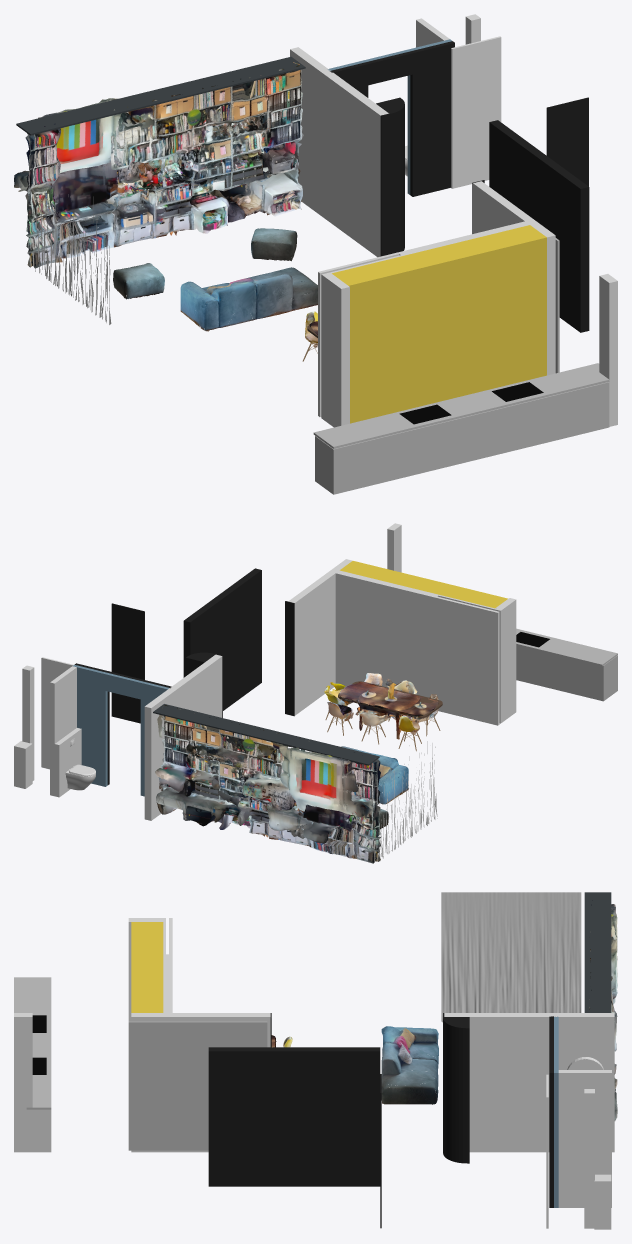
3 views of the same model, one above another, from view 1: azimuth 30°, elevation 25°; view 2: azimuth 150°, elevation 25°; view 3: azimuth 270°, elevation 25° (orthographic). The views are drawn at different scales.
Visible parts, largest first — view 1: Object.007, Curve.071, Curve.066, Curve.068, Curve.065, _Curve.012, _Curve.014, Sofa.001, Arbeitsplatte.004, Curve.072, Curve.067, Curve.069 (+11 smaller); view 2: Object.007, _Wand_Tisch-Küche.003, _Wand_Tisch-Küche.005, Curve.065, Curve.069, Object.004, _Curve.015, Curve.068, Curve.066, Curve.079, Curve.072, Curve.071 (+13 smaller); view 3: Curve.065, Plane.002, Curve.068, Schiebetür.002, Curve.075, Sofa.001, _ECurve.002, Curve.072, Curve.071, Arbeitsplatte.004, Curve.074, Curve.073 (+9 smaller).
Part boxes in pixels (x1=…): Object.007: x1=14, y1=62, x2=303, y2=268; Curve.071: x1=332, y1=225, x2=546, y2=423; Curve.066: x1=315, y1=382, x2=609, y2=494; Curve.068: x1=290, y1=47, x2=388, y2=257; Curve.065: x1=489, y1=120, x2=589, y2=332; _Curve.012: x1=330, y1=41, x2=454, y2=196; _Curve.014: x1=451, y1=36, x2=501, y2=188; Sofa.001: x1=180, y1=267, x2=317, y2=331; Arbeitsplatte.004: x1=313, y1=365, x2=609, y2=448; Curve.072: x1=16, y1=56, x2=305, y2=135; Curve.067: x1=323, y1=273, x2=349, y2=427; Curve.069: x1=473, y1=181, x2=555, y2=375; Object.007: x1=155, y1=705, x2=380, y2=863; _Wand_Tisch-Küche.003: x1=335, y1=570, x2=438, y2=697; _Wand_Tisch-Küche.005: x1=435, y1=596, x2=499, y2=725; Curve.065: x1=183, y1=568, x2=261, y2=710; Curve.069: x1=288, y1=559, x2=352, y2=715; Object.004: x1=324, y1=673, x2=442, y2=751; _Curve.015: x1=72, y1=665, x2=169, y2=796; Curve.068: x1=144, y1=654, x2=222, y2=820; Curve.066: x1=516, y1=645, x2=617, y2=701; Curve.079: x1=111, y1=603, x2=144, y2=723; Curve.072: x1=153, y1=704, x2=379, y2=765; Curve.071: x1=340, y1=561, x2=507, y2=608; Curve.065: x1=208, y1=1047, x2=380, y2=1186; Plane.002: x1=441, y1=892, x2=581, y2=1022; Curve.068: x1=444, y1=1013, x2=614, y2=1152; Schiebetür.002: x1=128, y1=1021, x2=267, y2=1150; Curve.075: x1=558, y1=1070, x2=611, y2=1207; Sofa.001: x1=381, y1=1026, x2=438, y2=1104; _ECurve.002: x1=443, y1=1017, x2=469, y2=1163; Curve.072: x1=584, y1=892, x2=611, y2=1012; Curve.071: x1=131, y1=922, x2=163, y2=1012; Arbeitsplatte.004: x1=14, y1=977, x2=51, y2=1103; Curve.074: x1=14, y1=1013, x2=32, y2=1151; Curve.073: x1=14, y1=1109, x2=51, y2=1152.
Size of the model in its own units: 9.28 by 2.81 by 11.33.
Materials: 20 (4 with a texture image).
